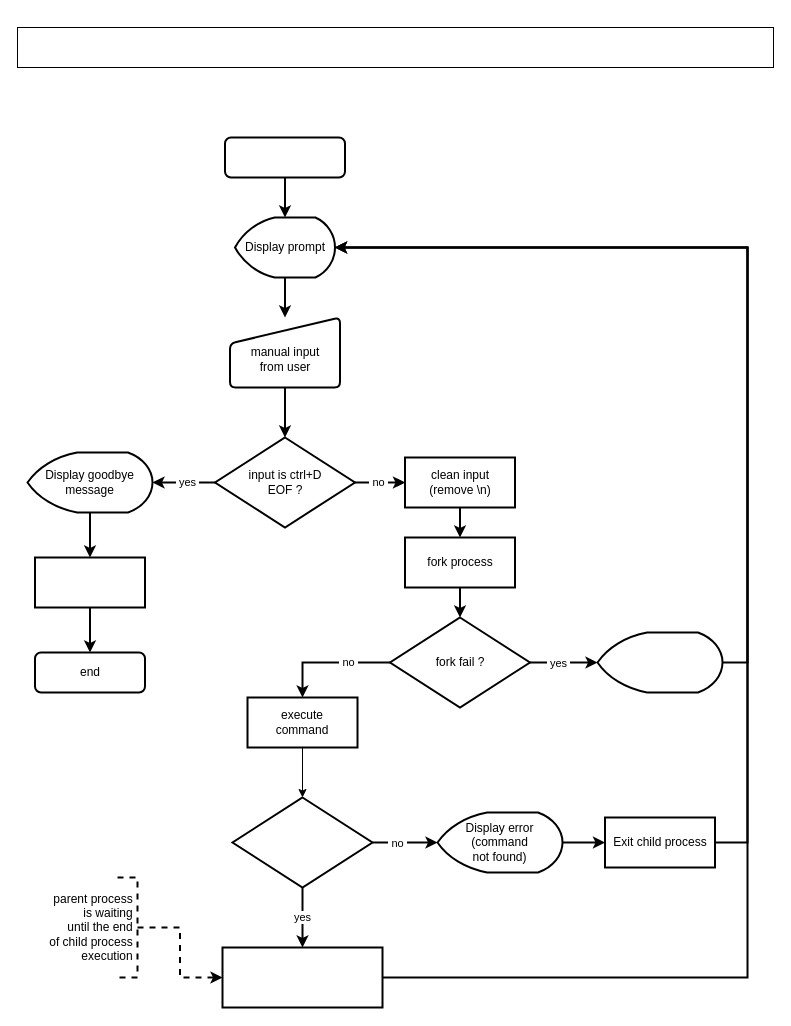
This 791x1026 diagram has some shape labels left out. Each missing label, with the centre of its shape:
"command found ?" goes at (x=302, y=842).
"Display fork error message" goes at (x=659, y=662).
"execute command in child process" goes at (x=302, y=977).
"exit program" goes at (x=90, y=582).
"Simple shell - basic prompt flowchart" goes at (x=395, y=47).
"start" goes at (x=285, y=157).
